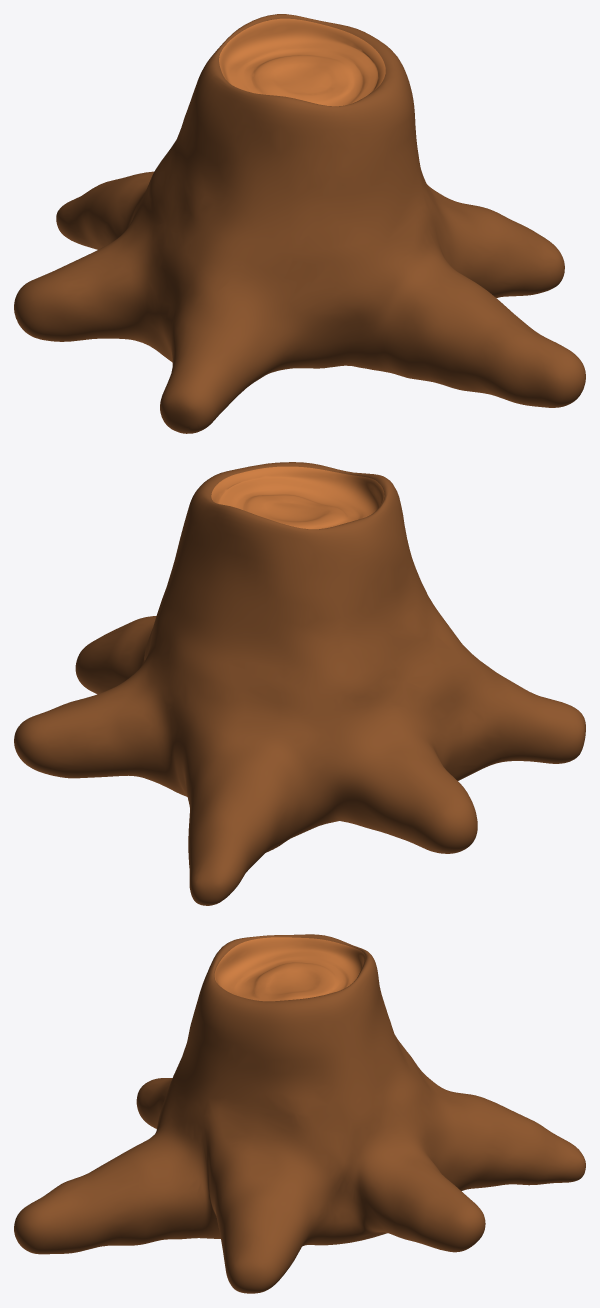
Rendered from toco.glb.
3 renders of one model, top to bottom at view 1: azimuth 30°, elevation 25°; view 2: azimuth 150°, elevation 25°; view 3: azimuth 270°, elevation 25°, orthographic. The views are drawn at different scales.
Parts seen in each view (by area): view 1: Cube.064; view 2: Cube.064; view 3: Cube.064.
Boxes of the visible parts, x1,y1,x2,y2 form: Cube.064: (14, 14, 585, 433); Cube.064: (14, 462, 585, 905); Cube.064: (14, 934, 585, 1293).
Size of the model in its own units: 4.06 by 2.47 by 4.87.
